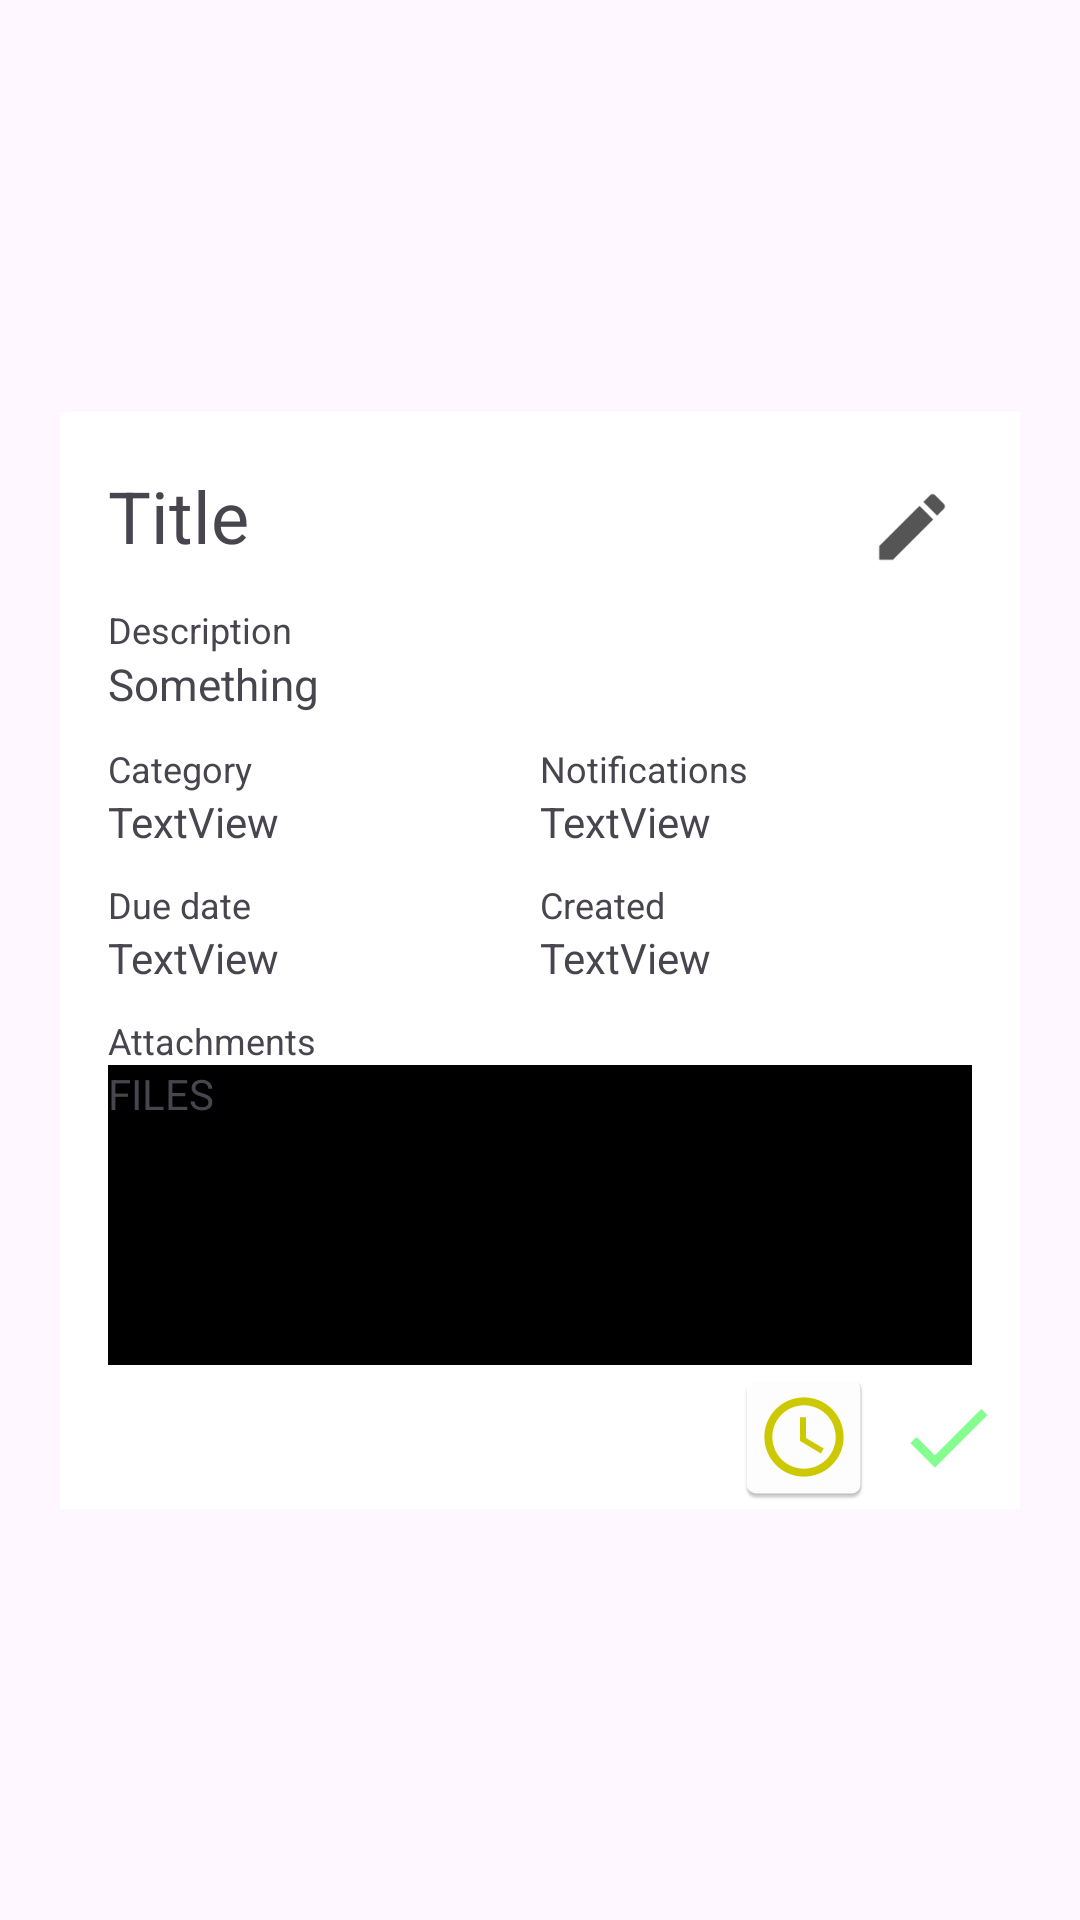

Where to tap for icons on this 1080px×1920px app screen, as (x,y):
done: (948,1438)
edit: (912,527)
incomplete: (804,1442)
